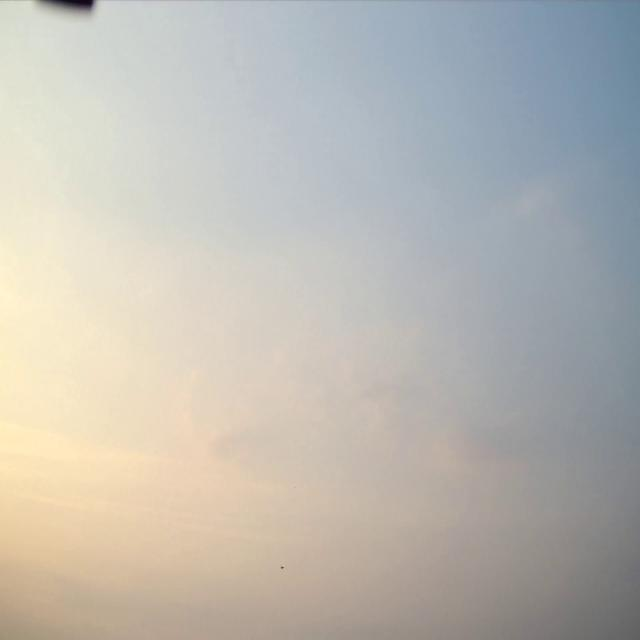UAV: (280, 565, 285, 569)
